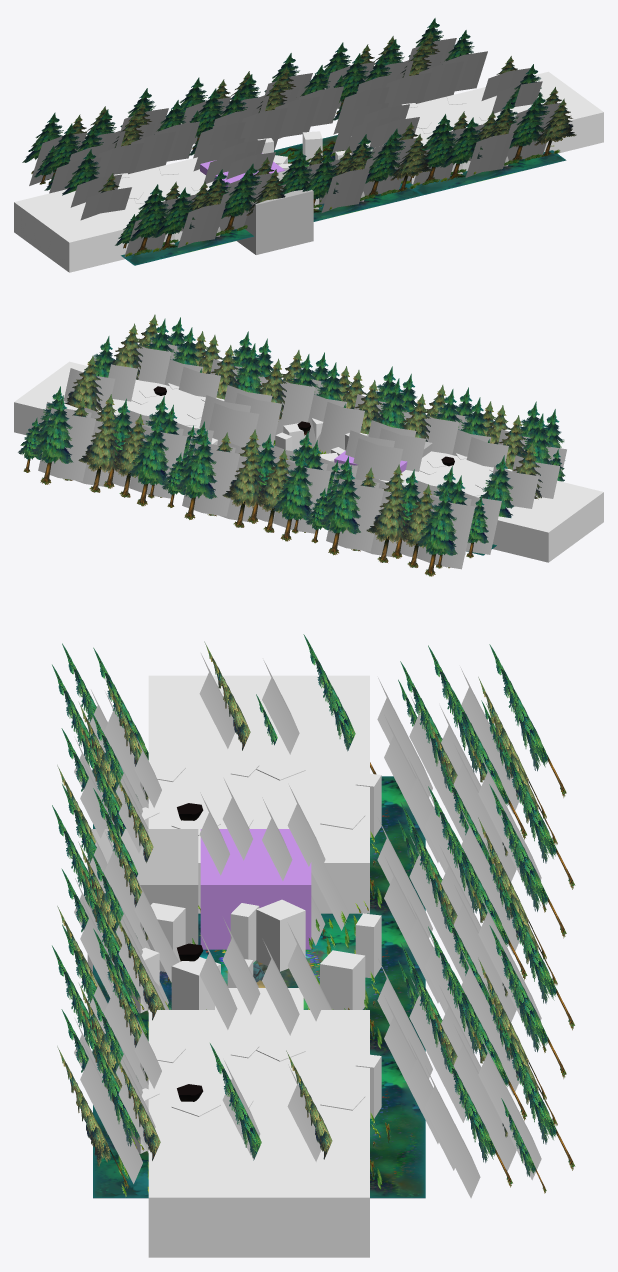
3 renders of one model, top to bottom at view 1: azimuth 30°, elevation 25°; view 2: azimuth 150°, elevation 25°; view 3: azimuth 270°, elevation 25°, orthographic. The views are drawn at different scales.
Visible parts, largest first — view 1: FieldArea_02_001_tree_2 (×3), FieldArea_02_002_tree_1_AA (×3), FieldArea_02_002_tree_1_BB (×3), DoorWay_NavMask (2), FieldArea_02_001_tree_1 (×3), DoorWay_NavMask (1), FieldArea_02_001_ground2 (×3), FieldDungeon_02_001_Door_Left_001 (×3), FieldDungeon_02_001_Door_Right_001 (×3), AsyncLoad, FieldDungeon_02_002_Door_Right_001, Cube_08 (+3 smaller); view 2: FieldArea_02_002_tree_1_BB (×3), FieldArea_02_002_tree_1_AA (×3), FieldArea_02_001_tree_2 (×3), FieldArea_02_001_tree_1 (×3), DoorWay_NavMask (2), FieldDungeon_02_001_Door_Left_001 (×3), DoorWay_NavMask (1), FieldDungeon_02_001_Door_Right_001 (×3), FieldDungeon_02_002_Door_Left_001, FieldDungeon_02_002_Door_Right_001; view 3: DoorWay_NavMask (1) (×4), FieldArea_02_001_tree_2 (×3), DoorWay_NavMask (2), FieldArea_02_002_tree_1_BB (×3), FieldArea_02_002_tree_1_AA (×3), FieldArea_02_001_ground2 (×3), FieldArea_02_001_tree_1 (×3), AreaChanger_20005_30001, FieldDungeon_02_001_Door_Left_001 (×3), FieldDungeon_02_001_Door_Right_001 (×3), AsyncLoad, Cube_06 (×3) (+9 smaller).
Boxes of the visible parts, x1,y1,x2,y2 form: FieldArea_02_001_tree_2 (×3): [29, 38, 487, 193]; FieldArea_02_002_tree_1_AA (×3): [115, 87, 576, 251]; FieldArea_02_002_tree_1_BB (×3): [22, 18, 474, 190]; DoorWay_NavMask (2): [14, 157, 226, 272]; FieldArea_02_001_tree_1 (×3): [124, 103, 560, 257]; DoorWay_NavMask (1): [405, 71, 603, 184]; FieldArea_02_001_ground2 (×3): [121, 135, 565, 265]; FieldDungeon_02_001_Door_Left_001 (×3): [193, 68, 542, 183]; FieldDungeon_02_001_Door_Right_001 (×3): [70, 104, 419, 220]; AsyncLoad: [228, 170, 313, 254]; FieldDungeon_02_002_Door_Right_001: [62, 149, 119, 195]; Cube_08: [302, 131, 322, 165]; FieldArea_02_002_tree_1_BB (×3): [18, 386, 488, 576]; FieldArea_02_002_tree_1_AA (×3): [111, 314, 565, 481]; FieldArea_02_001_tree_2 (×3): [38, 402, 501, 569]; FieldArea_02_001_tree_1 (×3): [136, 340, 566, 472]; DoorWay_NavMask (2): [364, 451, 603, 562]; FieldDungeon_02_001_Door_Left_001 (×3): [63, 358, 425, 481]; DoorWay_NavMask (1): [14, 361, 217, 444]; FieldDungeon_02_001_Door_Right_001 (×3): [199, 385, 560, 508]; FieldDungeon_02_002_Door_Left_001: [64, 336, 114, 411]; FieldDungeon_02_002_Door_Right_001: [479, 442, 542, 517]; DoorWay_NavMask (1) (×4): [148, 726, 369, 1257]; FieldArea_02_001_tree_2 (×3): [377, 667, 541, 1198]; DoorWay_NavMask (2): [148, 675, 369, 913]; FieldArea_02_002_tree_1_BB (×3): [398, 644, 575, 1193]; FieldArea_02_002_tree_1_AA (×3): [52, 643, 164, 1188]; FieldArea_02_001_ground2 (×3): [93, 776, 425, 1197]; FieldArea_02_001_tree_1 (×3): [74, 690, 178, 1183]; AreaChanger_20005_30001: [200, 829, 311, 949]; FieldDungeon_02_001_Door_Left_001 (×3): [222, 779, 349, 1161]; FieldDungeon_02_001_Door_Right_001 (×3): [199, 653, 325, 1035]; AsyncLoad: [87, 829, 198, 972]; Cube_06 (×3): [355, 773, 381, 1118].
Size of what is drawn, in the model's own units: 55.7 by 9.33 by 24.06.
